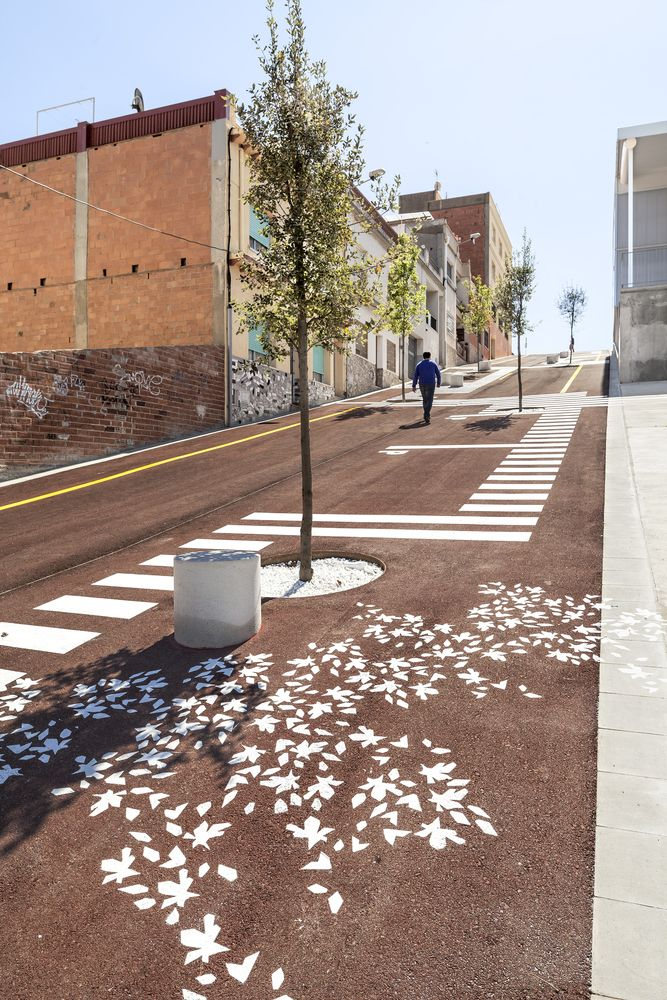tree: (220, 1, 385, 584)
